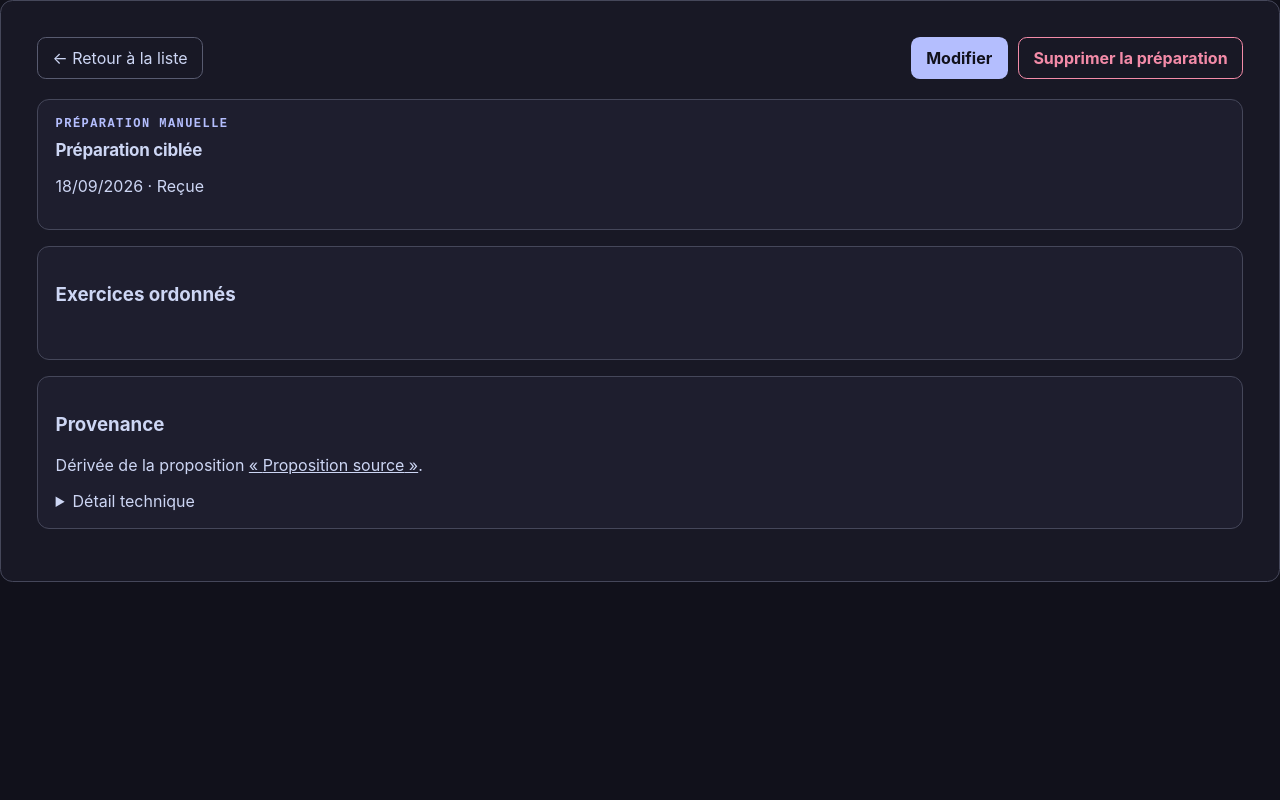
it: Sessions page › cancels confirmation without mutation, then withdraws through the DELETE API
Check: the heading "Préparation ciblée" is shown, box x1=56 y1=140 x2=202 y2=160
Click the button "Supprimer la préparation". click: (1130, 58)
box: x1=1018 y1=37 x2=1243 y2=79
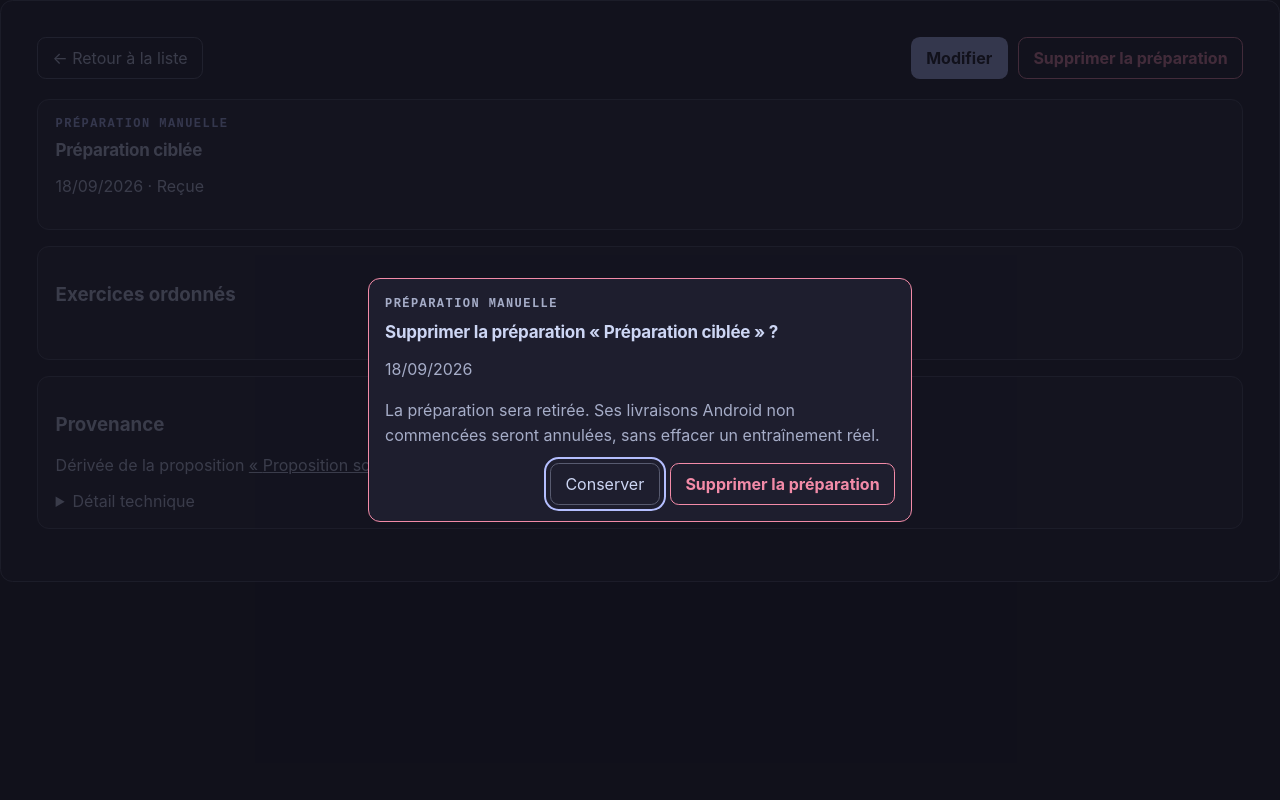
Check: the dialog shows "sans effacer un entraînement réel", box x1=385 y1=400 x2=880 y2=445
Click the button "Conserver". click: (605, 484)
box: x1=550 y1=463 x2=660 y2=505
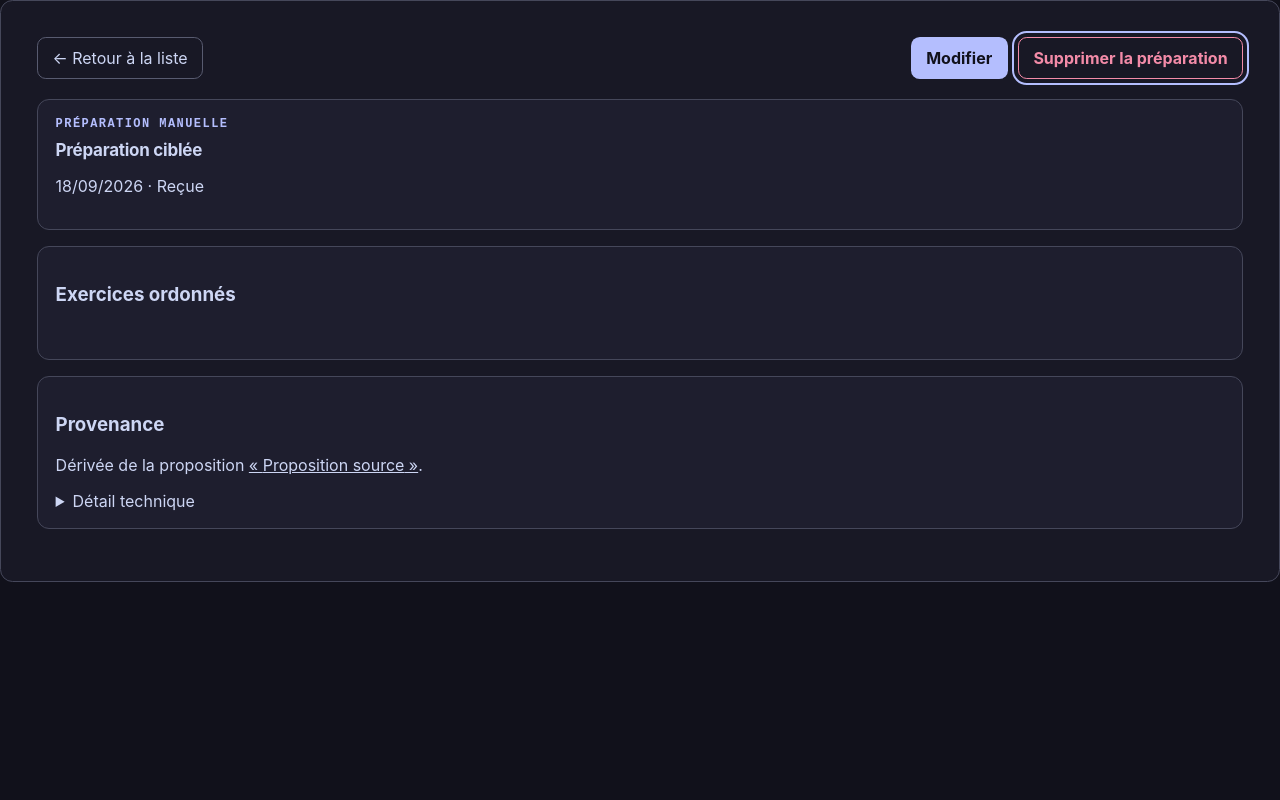
Check: the dialog is gone
Click the button "Supprimer la préparation". click: (1130, 58)
box: x1=1018 y1=37 x2=1243 y2=79
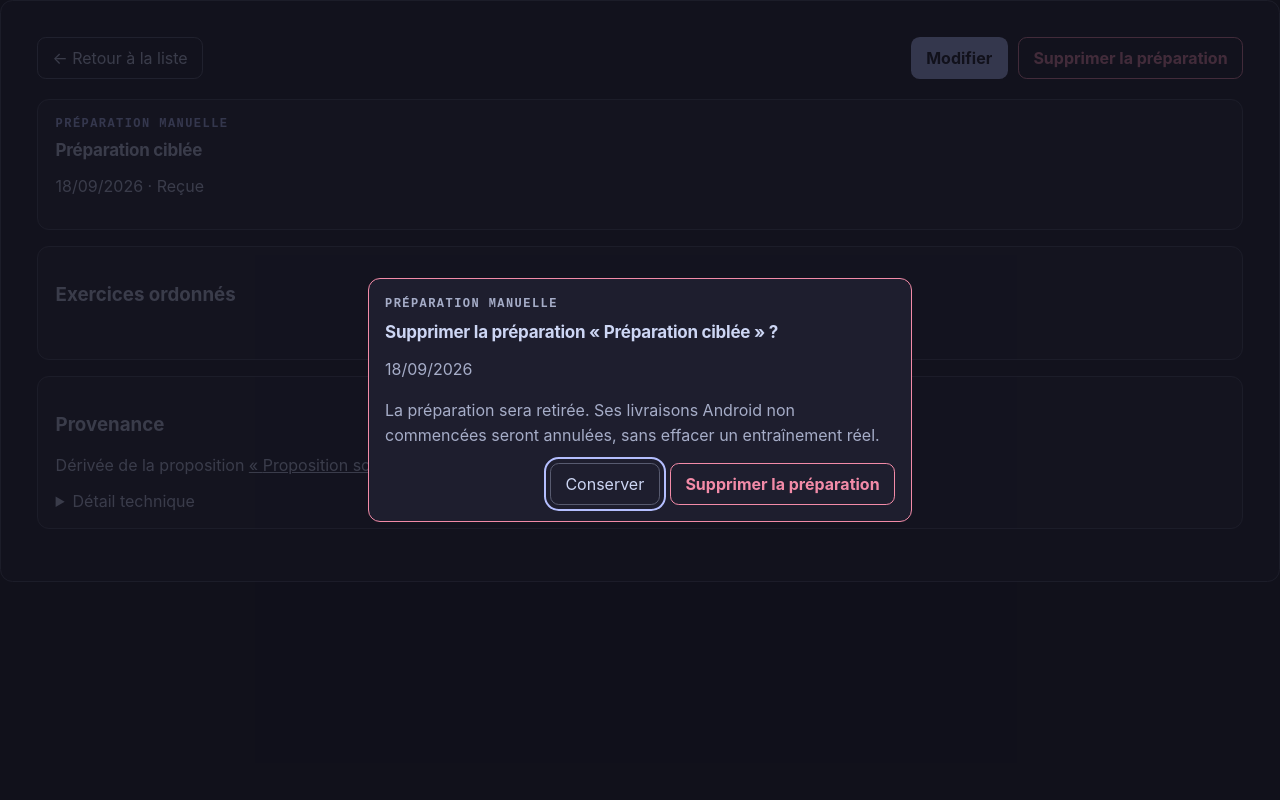
Press Escape in the dialog, box x1=368 y1=278 x2=912 y2=522
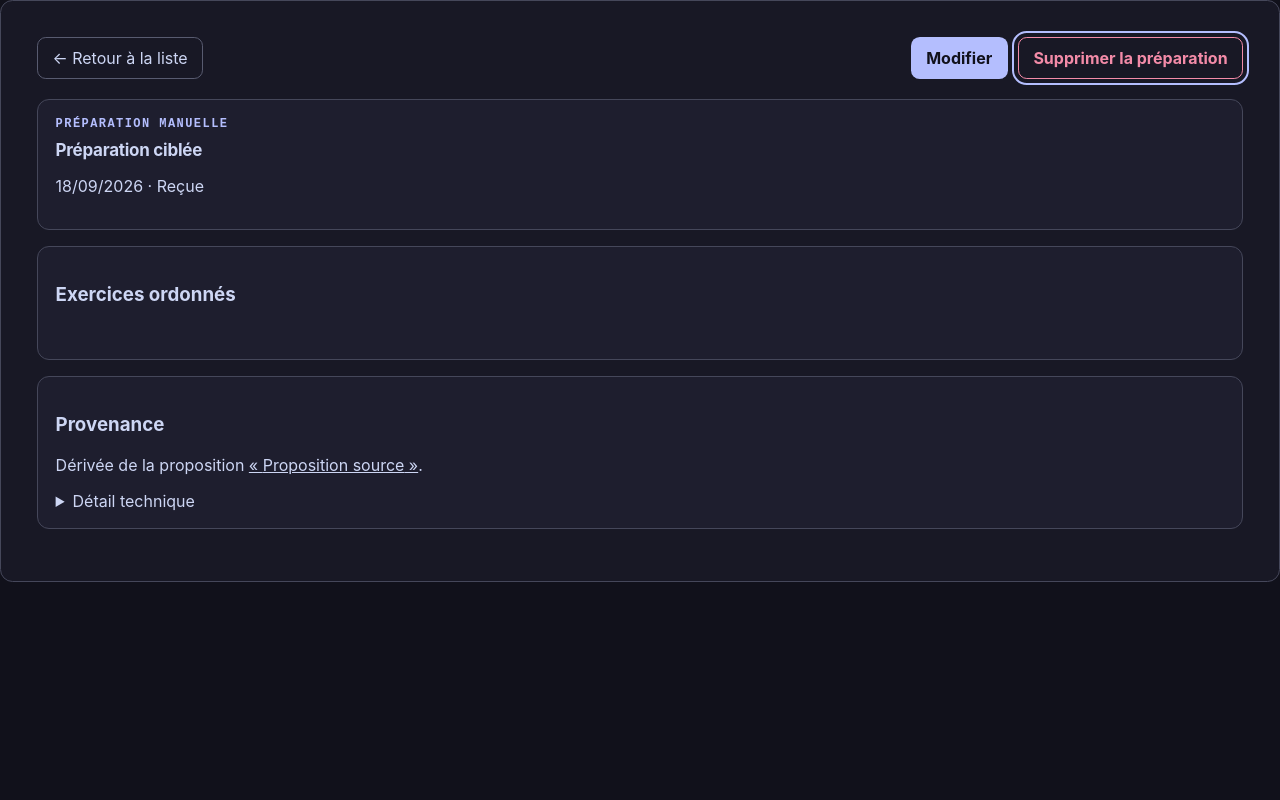
Check: the dialog is gone
Click the button "Supprimer la préparation". click: (1130, 58)
box: x1=1018 y1=37 x2=1243 y2=79
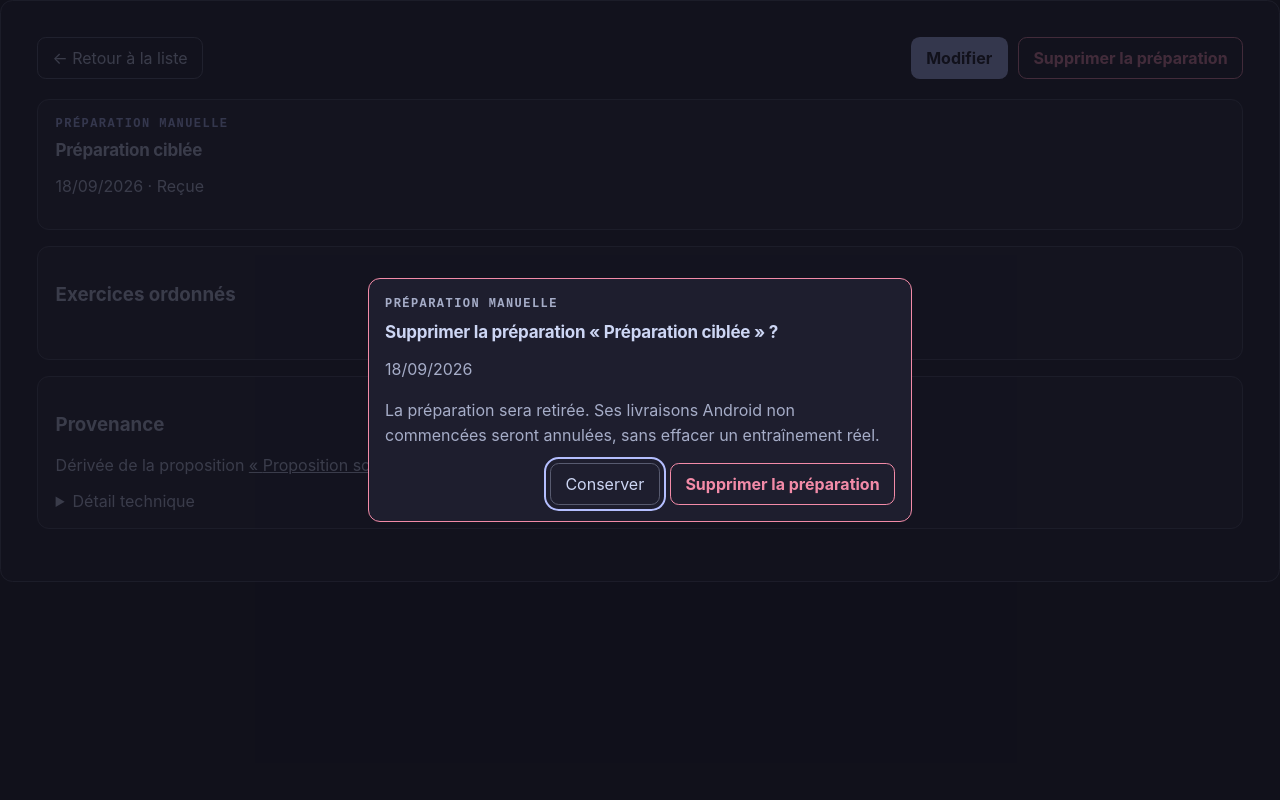
Click the button "Supprimer la préparation". click: (782, 484)
box: x1=670 y1=463 x2=895 y2=505
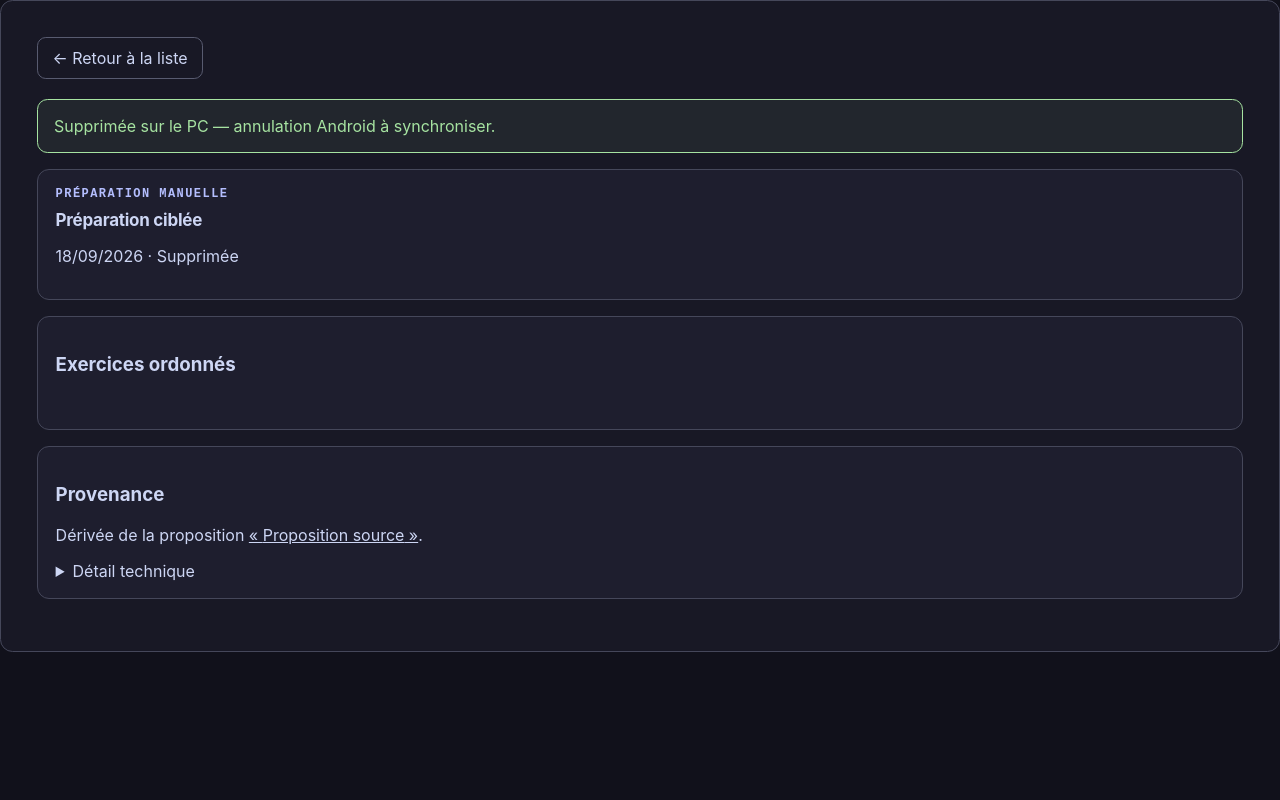
Check: the text "Dérivée de la proposition « Proposition source » ." is shown, box x1=56 y1=525 x2=423 y2=545
Check: the message reads "Supprimée sur le PC — annulation Android à synchroniser.", box x1=54 y1=116 x2=495 y2=136
Check: the button "Supprimer la préparation" is gone
